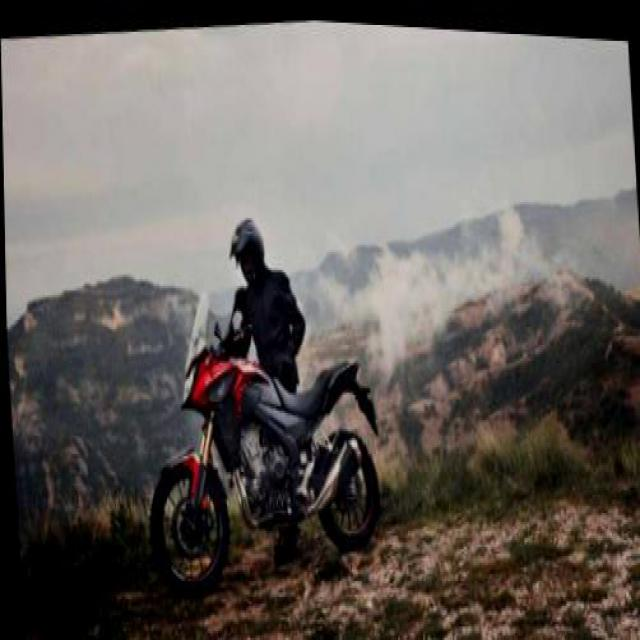CB500X: (134, 263, 384, 615)
